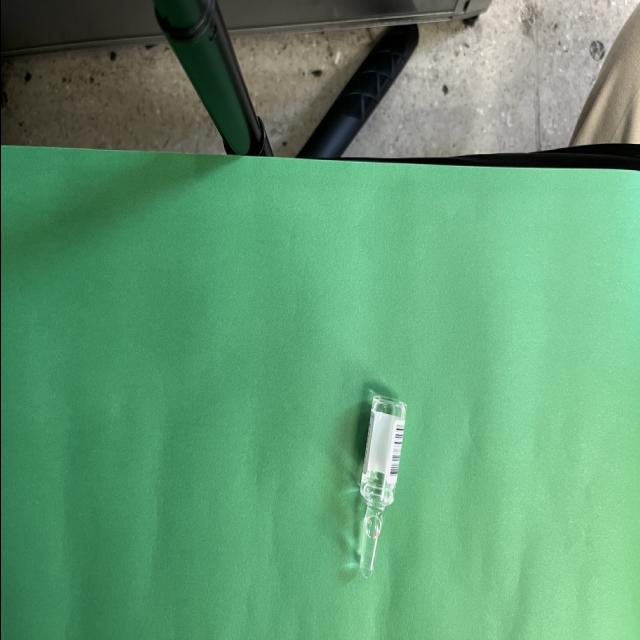Ampoules: (355, 394, 404, 577)
